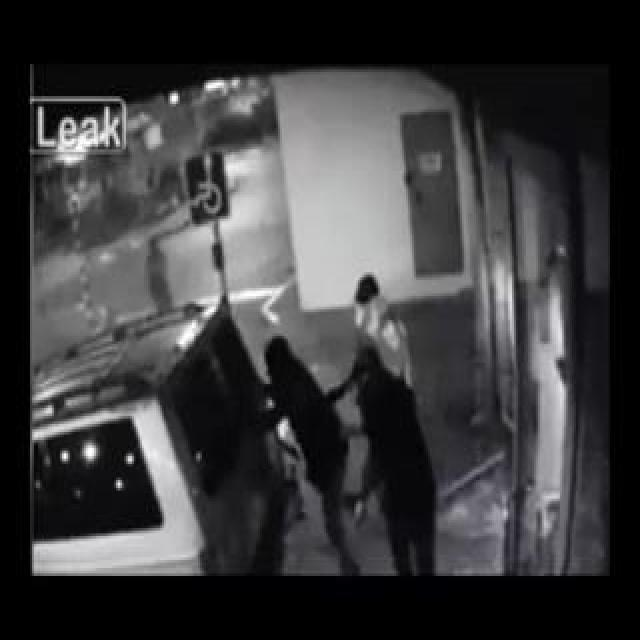thief: (279, 277, 400, 474)
